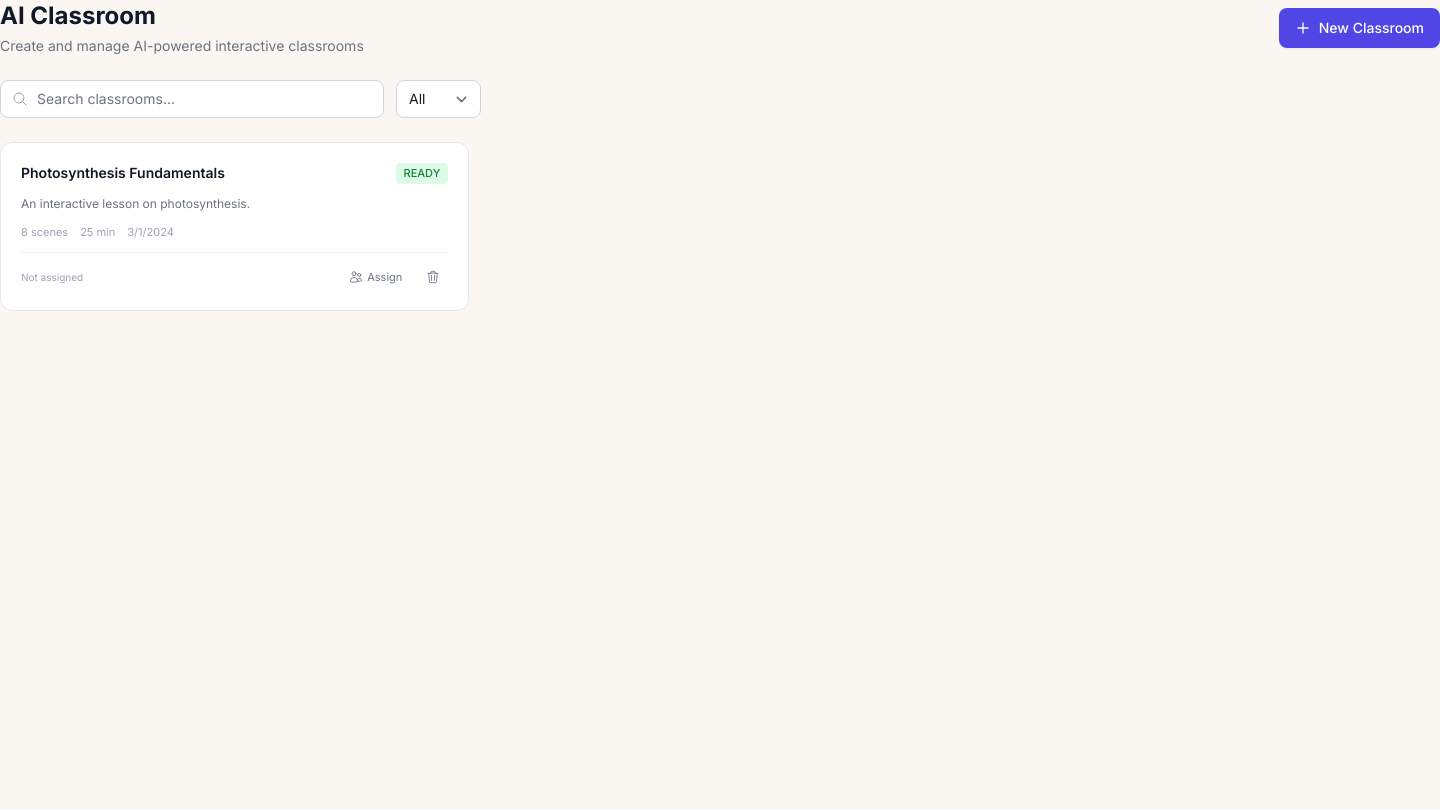
Scenario: MAICLibraryPage › clicking Assign opens section assignment modal
Check: the heading "Photosynthesis Fundamentals" is shown, box [21, 163, 225, 183]
Click the button titled "Assign sections": (376, 277) [341, 265, 410, 290]
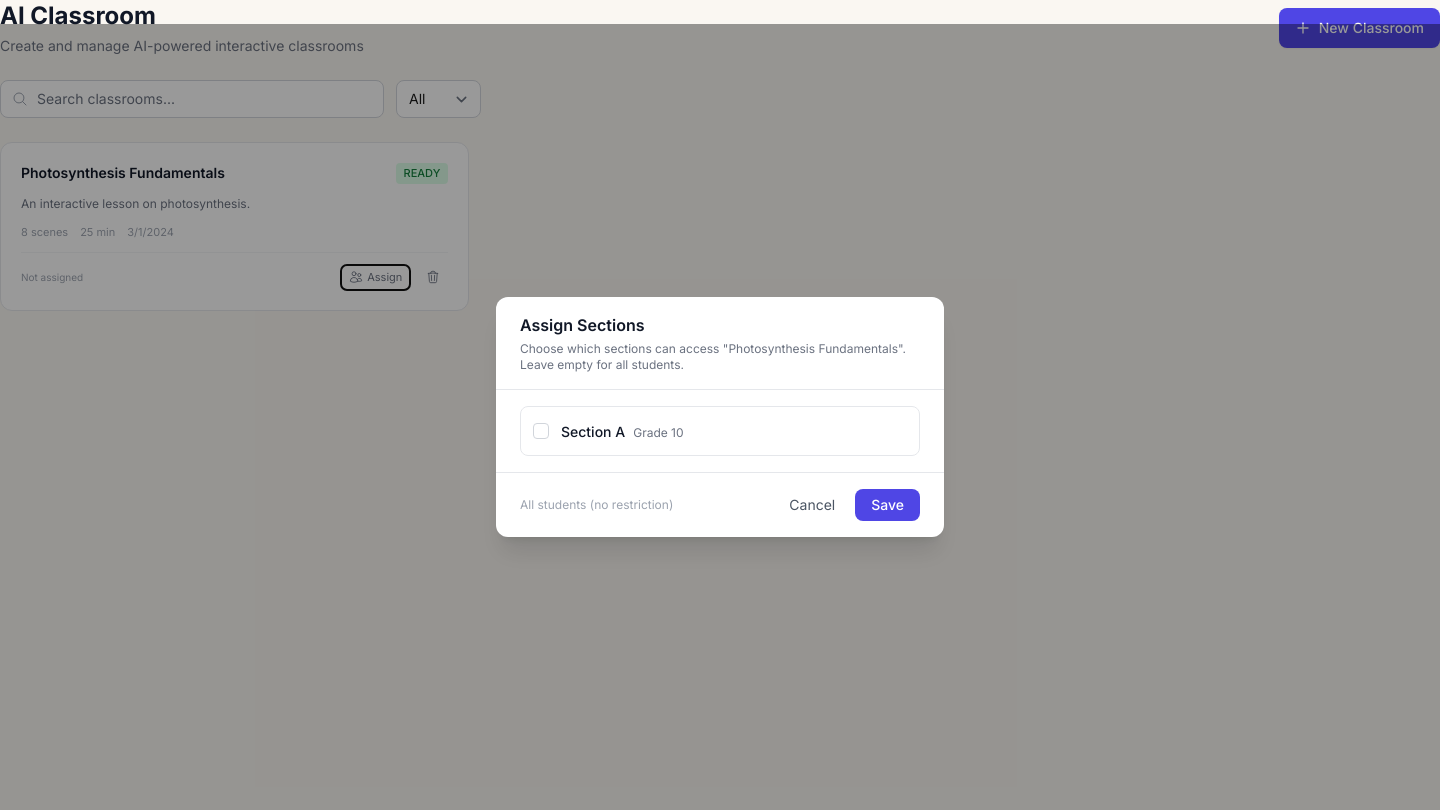
Check: the heading "Assign Sections" is shown, box [520, 315, 644, 335]
